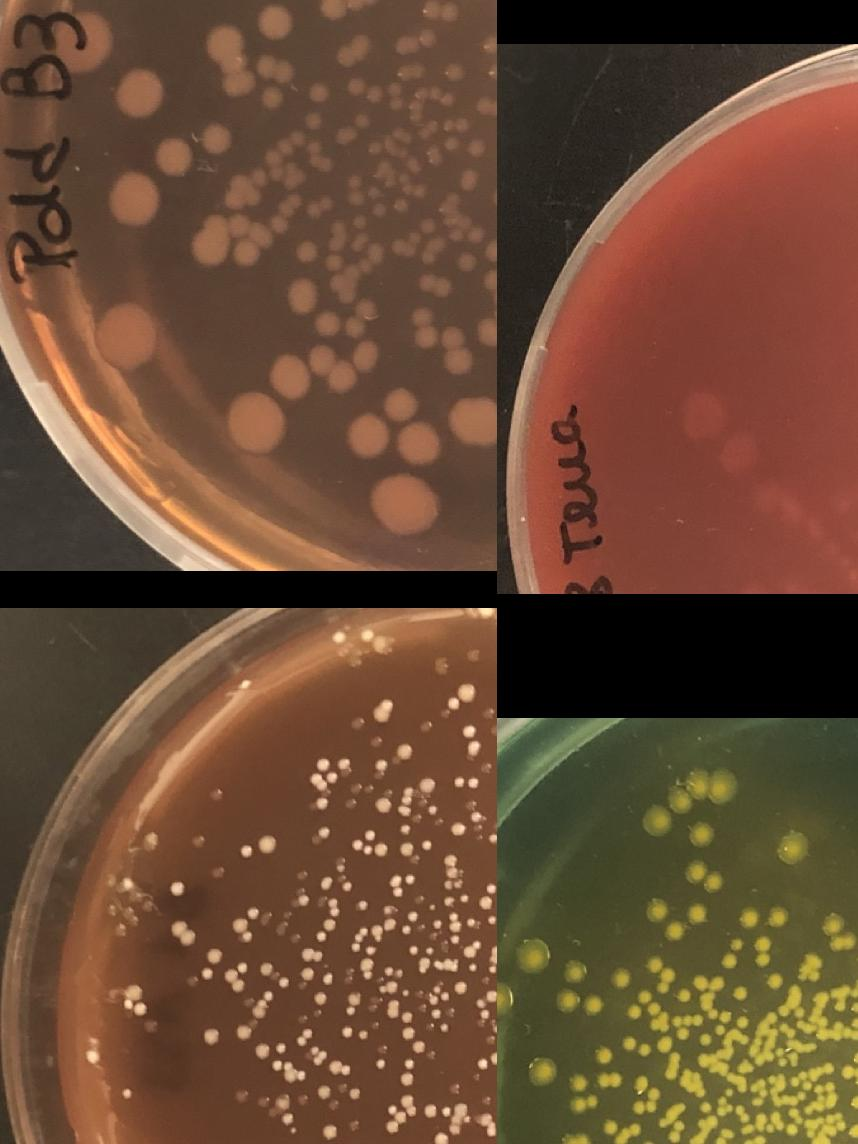assalmonicida: (314, 894, 343, 943), (400, 1008, 428, 1055), (351, 824, 389, 857), (311, 756, 339, 788), (388, 871, 419, 897), (447, 683, 475, 710), (171, 919, 198, 946), (126, 985, 148, 1017), (400, 1056, 418, 1087), (223, 967, 245, 992), (300, 945, 326, 964), (418, 776, 436, 794), (396, 742, 414, 760), (204, 1026, 222, 1044), (374, 795, 391, 813), (373, 704, 390, 722), (236, 1022, 253, 1040), (259, 834, 276, 851), (460, 723, 478, 739), (450, 820, 468, 836), (396, 820, 414, 836), (372, 1054, 390, 1070), (340, 878, 358, 894), (318, 825, 336, 841), (272, 1094, 290, 1110), (254, 1042, 272, 1058), (168, 879, 186, 895), (465, 740, 482, 756), (419, 836, 436, 852), (384, 1118, 401, 1134), (381, 915, 398, 931), (346, 989, 363, 1005), (332, 628, 349, 644), (317, 875, 334, 891), (232, 918, 249, 934), (258, 961, 276, 976), (442, 852, 458, 868), (422, 1102, 438, 1118), (358, 956, 374, 972), (348, 1084, 364, 1100), (328, 1059, 344, 1075), (316, 1083, 332, 1099), (314, 794, 330, 810), (312, 990, 328, 1006), (300, 965, 316, 981), (244, 903, 260, 919), (120, 1085, 136, 1101), (86, 1048, 102, 1064), (432, 1130, 450, 1144), (462, 943, 477, 959), (453, 1102, 468, 1118), (398, 842, 413, 858), (279, 1112, 294, 1128), (240, 842, 255, 858), (208, 947, 223, 963), (200, 965, 215, 981), (144, 832, 159, 848), (360, 626, 377, 640), (478, 894, 492, 910), (418, 954, 432, 970), (400, 1093, 414, 1109), (336, 754, 350, 770), (322, 1124, 336, 1140), (453, 982, 468, 996), (488, 1050, 497, 1065)
pddamselae: (380, 384, 422, 422), (254, 4, 294, 42), (154, 138, 194, 176), (465, 139, 487, 159), (442, 62, 464, 82), (479, 34, 497, 54)
sinniae: (666, 771, 738, 813), (788, 1068, 819, 1118), (776, 984, 808, 1030), (686, 860, 726, 893), (823, 912, 858, 949), (831, 1000, 858, 1041), (632, 1076, 661, 1113), (648, 956, 676, 994), (526, 1056, 558, 1086), (518, 942, 548, 972), (672, 1014, 704, 1040), (779, 832, 807, 860), (644, 807, 672, 835), (812, 992, 828, 1040), (686, 819, 714, 846), (622, 1034, 652, 1056), (815, 1080, 838, 1108), (636, 988, 660, 1014), (754, 934, 772, 967), (830, 978, 858, 999), (800, 956, 822, 982), (614, 1123, 641, 1144), (693, 974, 726, 990), (764, 1046, 786, 1068), (738, 907, 760, 929), (686, 903, 708, 925), (646, 900, 668, 922), (610, 964, 632, 986), (564, 960, 586, 982), (558, 988, 580, 1010), (765, 1110, 785, 1134), (572, 1094, 598, 1112), (768, 905, 789, 927), (664, 921, 686, 942), (583, 995, 605, 1016), (568, 1071, 589, 1093), (666, 1050, 680, 1079), (497, 984, 510, 1015), (766, 1072, 786, 1091), (840, 1065, 858, 1086), (597, 1072, 624, 1086), (669, 1119, 684, 1142), (708, 1008, 732, 1022), (741, 1132, 767, 1144), (766, 972, 784, 988), (779, 1020, 794, 1038), (560, 1132, 582, 1144), (732, 985, 748, 1001), (730, 936, 744, 952), (722, 952, 736, 968), (658, 1035, 672, 1051), (626, 1003, 640, 1019), (602, 1120, 618, 1134), (598, 1048, 612, 1064), (718, 1094, 728, 1116), (849, 1095, 858, 1119), (698, 1032, 712, 1046), (678, 987, 692, 1001), (848, 1121, 858, 1139), (736, 1015, 750, 1027), (853, 1050, 858, 1064)
tmaritimum: (718, 432, 766, 478), (680, 396, 728, 442), (831, 494, 852, 514), (804, 518, 824, 538), (778, 497, 798, 517)
